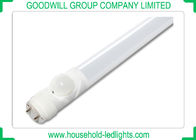Light_bulb: (24, 17, 178, 127)
